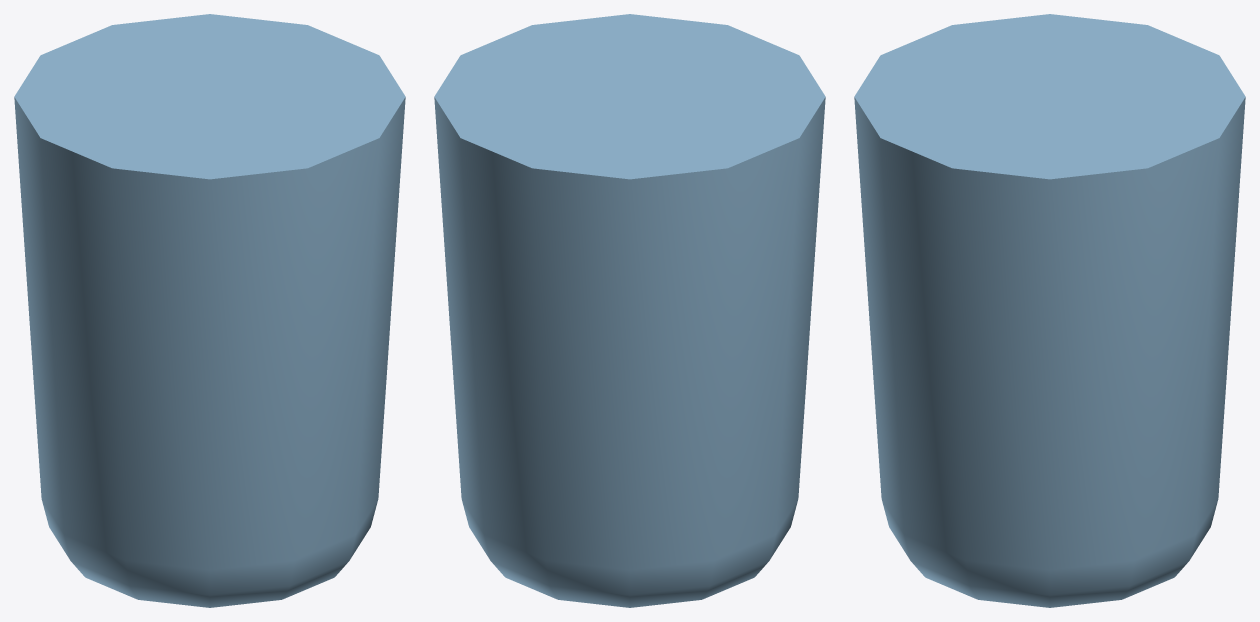
Rendered from stopka_coll.FBX.
The picture shows the model from 3 angles, left to right: view 1: azimuth 30°, elevation 25°; view 2: azimuth 150°, elevation 25°; view 3: azimuth 270°, elevation 25°; orthographic projection.
Visible parts, largest first — view 1: stopka_coll; view 2: stopka_coll; view 3: stopka_coll.
Boxes of the visible parts, bbox=[...] form: stopka_coll: bbox=[14, 14, 405, 607]; stopka_coll: bbox=[434, 14, 825, 607]; stopka_coll: bbox=[854, 14, 1245, 607].
Size of the model in its own units: 32.68 by 42.2 by 32.68.
